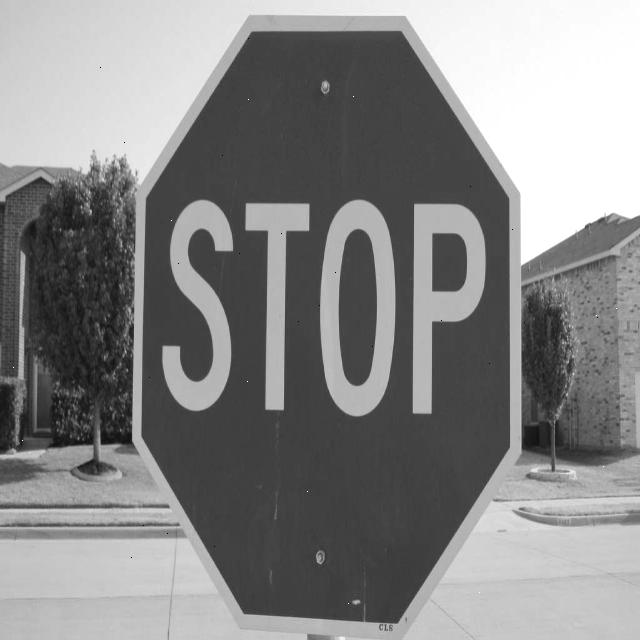Stop-sign: (133, 0, 528, 640)
